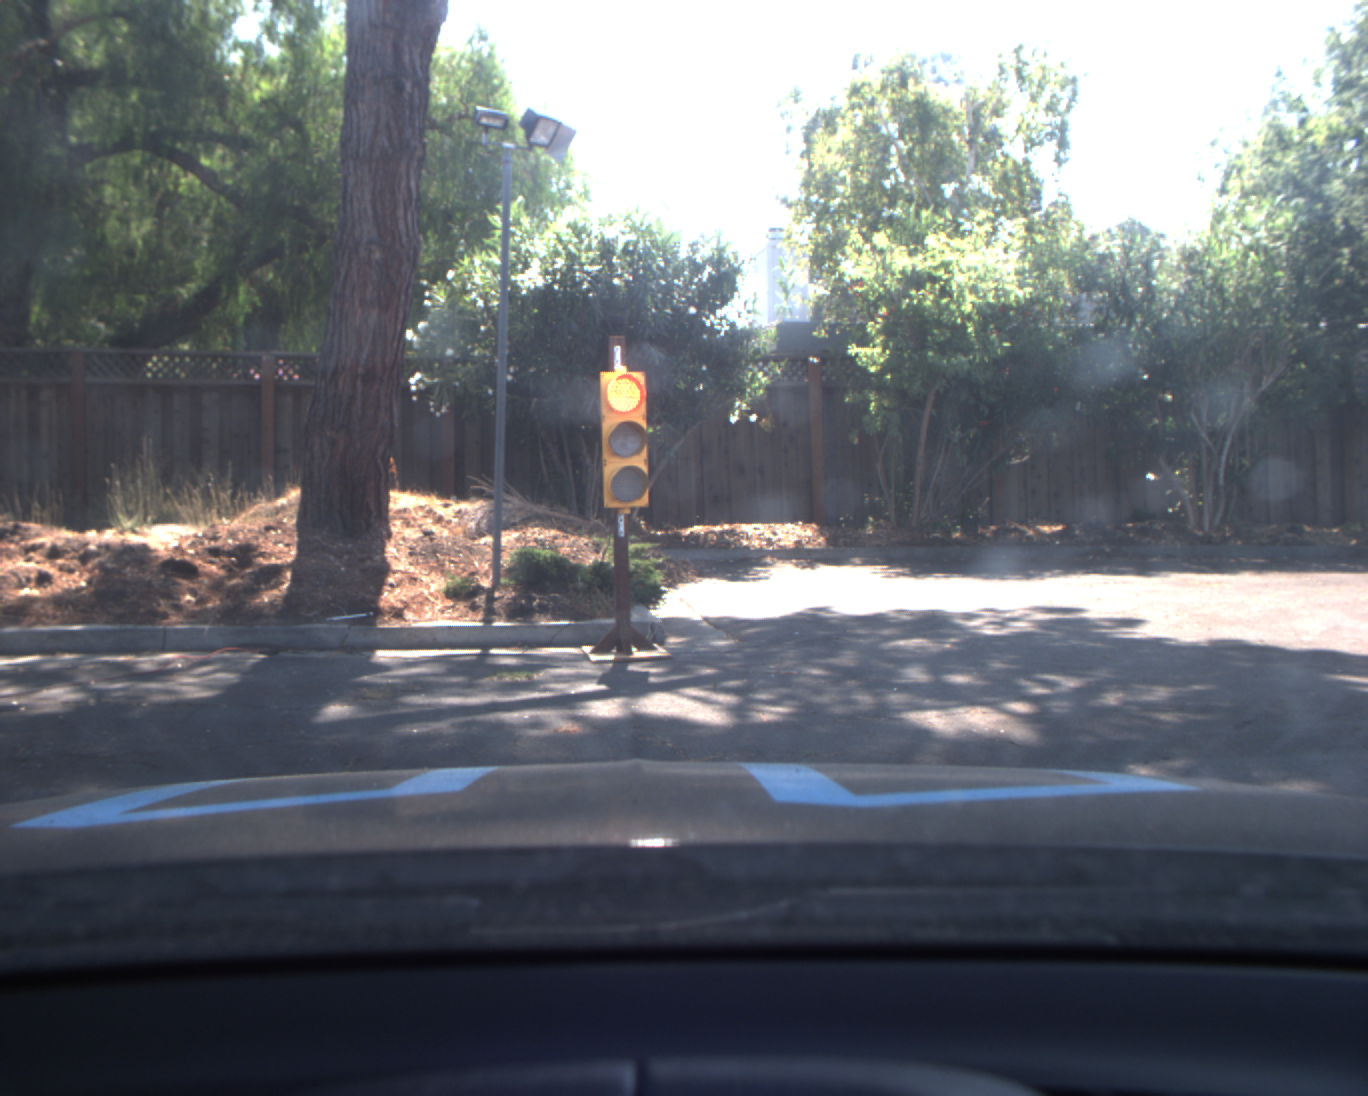red: (601, 371, 654, 508)
